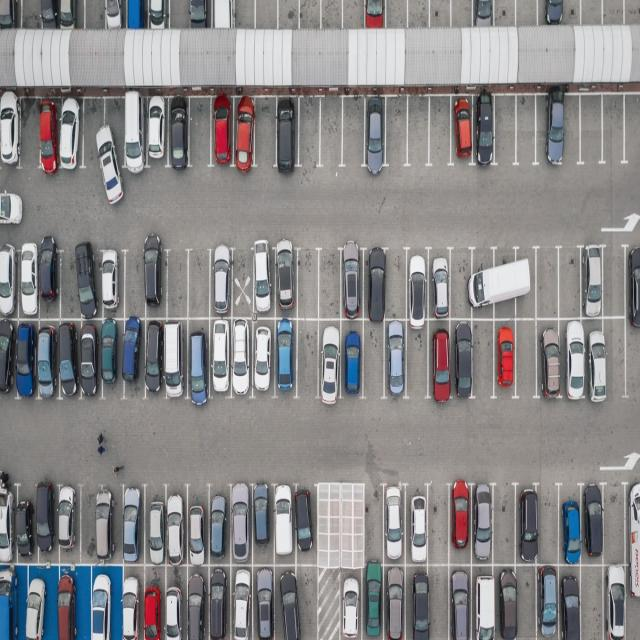space-empty: (292, 320, 320, 398), (602, 318, 629, 397), (80, 99, 107, 178), (291, 564, 319, 638), (102, 97, 128, 176), (512, 320, 538, 398), (470, 319, 496, 396), (423, 564, 450, 638), (405, 322, 431, 397), (492, 488, 517, 566), (577, 563, 603, 638), (361, 319, 386, 396), (254, 94, 280, 168), (19, 96, 44, 172), (426, 485, 449, 567), (537, 488, 561, 566), (361, 487, 384, 568), (380, 250, 406, 321), (601, 247, 626, 320), (428, 96, 454, 166), (188, 98, 214, 168), (536, 248, 562, 318), (448, 250, 474, 320), (492, 93, 517, 165), (228, 248, 253, 320), (293, 251, 319, 320), (70, 566, 94, 640), (383, 96, 408, 166), (557, 249, 582, 319), (603, 94, 628, 164), (342, 94, 366, 166), (515, 566, 539, 638), (188, 250, 213, 319), (316, 251, 341, 320), (602, 486, 624, 564), (580, 93, 604, 164), (320, 96, 344, 166), (298, 97, 322, 166), (408, 96, 432, 165), (515, 94, 538, 165), (167, 248, 190, 317), (124, 251, 148, 317), (60, 246, 82, 318), (562, 94, 582, 167), (81, 488, 100, 563), (315, 488, 332, 569), (624, 319, 640, 396), (624, 95, 640, 164), (318, 0, 342, 32), (341, 0, 366, 29), (276, 0, 300, 30), (298, 0, 322, 30), (384, 0, 408, 29), (407, 0, 431, 29), (85, 0, 107, 31), (450, 0, 474, 28), (254, 0, 277, 29), (21, 0, 43, 30), (169, 0, 191, 30), (515, 0, 538, 28), (233, 0, 256, 28), (430, 0, 453, 28), (580, 0, 604, 25), (493, 0, 515, 27), (601, 0, 624, 25), (624, 0, 640, 24)
space-occupied: (15, 565, 53, 640), (87, 562, 119, 638), (570, 321, 600, 402), (560, 318, 590, 398), (122, 94, 150, 175), (539, 93, 569, 166), (186, 319, 213, 400), (225, 482, 252, 563), (164, 320, 191, 400), (537, 320, 564, 399), (251, 319, 278, 398), (225, 567, 254, 640), (426, 320, 453, 398), (471, 563, 499, 638), (446, 484, 472, 564), (57, 98, 84, 175), (339, 318, 365, 397), (207, 319, 233, 398), (587, 318, 613, 397), (53, 566, 81, 639), (160, 567, 188, 640), (272, 318, 298, 396), (492, 317, 518, 395), (122, 318, 148, 396), (36, 98, 62, 176), (380, 483, 405, 564), (139, 564, 166, 639), (143, 97, 170, 172), (449, 319, 474, 399), (183, 564, 210, 638), (491, 247, 519, 318), (206, 562, 232, 638), (405, 484, 430, 563), (227, 319, 252, 398), (448, 564, 474, 639), (120, 564, 146, 639), (534, 565, 560, 640), (164, 488, 190, 563), (166, 98, 192, 172), (250, 483, 274, 563), (318, 316, 342, 396), (58, 319, 82, 399), (12, 319, 36, 399), (100, 250, 128, 318), (272, 485, 297, 561), (253, 244, 279, 317), (472, 484, 496, 563), (208, 248, 235, 318), (253, 563, 278, 638), (208, 97, 234, 169), (34, 320, 58, 398), (122, 485, 146, 563), (513, 486, 537, 564), (381, 320, 405, 397), (272, 246, 298, 317), (471, 247, 497, 318), (560, 488, 584, 564), (450, 95, 476, 165), (577, 248, 603, 318), (361, 250, 387, 320), (380, 563, 404, 638), (274, 563, 298, 638), (14, 246, 38, 320), (57, 485, 81, 559), (405, 564, 429, 638), (341, 569, 366, 640), (208, 486, 231, 563), (184, 492, 208, 565), (232, 98, 257, 168), (292, 490, 315, 566), (605, 562, 628, 638), (426, 252, 452, 319), (101, 316, 123, 395), (80, 320, 102, 399), (80, 246, 104, 318), (558, 563, 581, 638), (143, 486, 165, 564), (37, 243, 60, 317), (406, 251, 431, 319), (144, 319, 166, 396), (364, 97, 388, 167), (275, 97, 299, 167), (512, 248, 536, 318), (494, 567, 517, 640), (340, 251, 365, 318), (95, 487, 117, 563), (103, 489, 125, 565), (34, 484, 56, 559), (583, 486, 604, 563), (144, 249, 168, 316), (360, 567, 382, 640), (0, 95, 21, 170), (474, 96, 496, 166), (17, 483, 36, 560), (0, 567, 20, 640), (0, 244, 19, 317), (0, 484, 16, 566), (625, 481, 640, 563), (0, 319, 14, 397), (626, 562, 640, 637), (626, 244, 640, 318), (540, 0, 580, 25), (125, 0, 150, 31), (146, 0, 171, 29), (186, 0, 211, 28), (55, 0, 80, 28), (210, 0, 234, 29), (362, 0, 386, 29), (103, 0, 126, 30), (473, 1, 497, 27), (0, 0, 20, 30), (39, 0, 59, 30)
